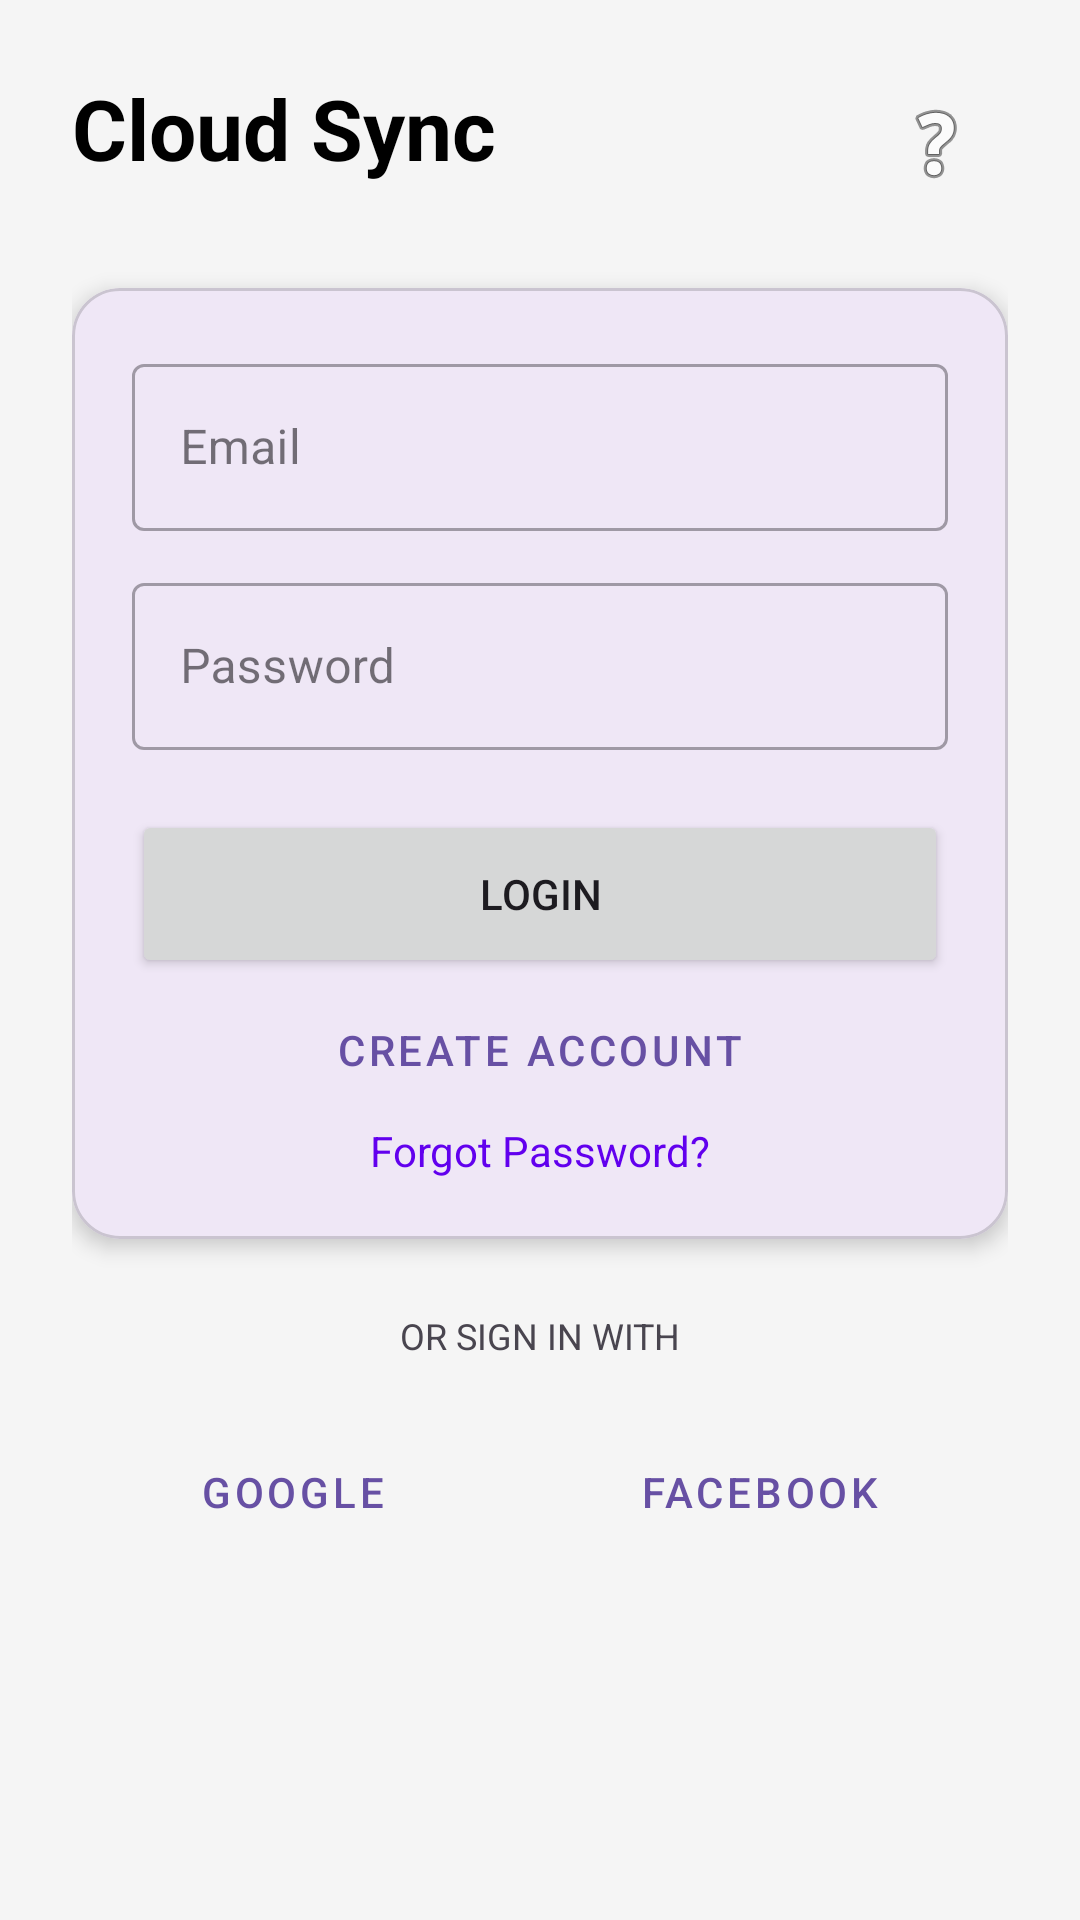

Where to tap for icons on this 1080*1920 app screen, as [x,y]:
help: [936,144]
